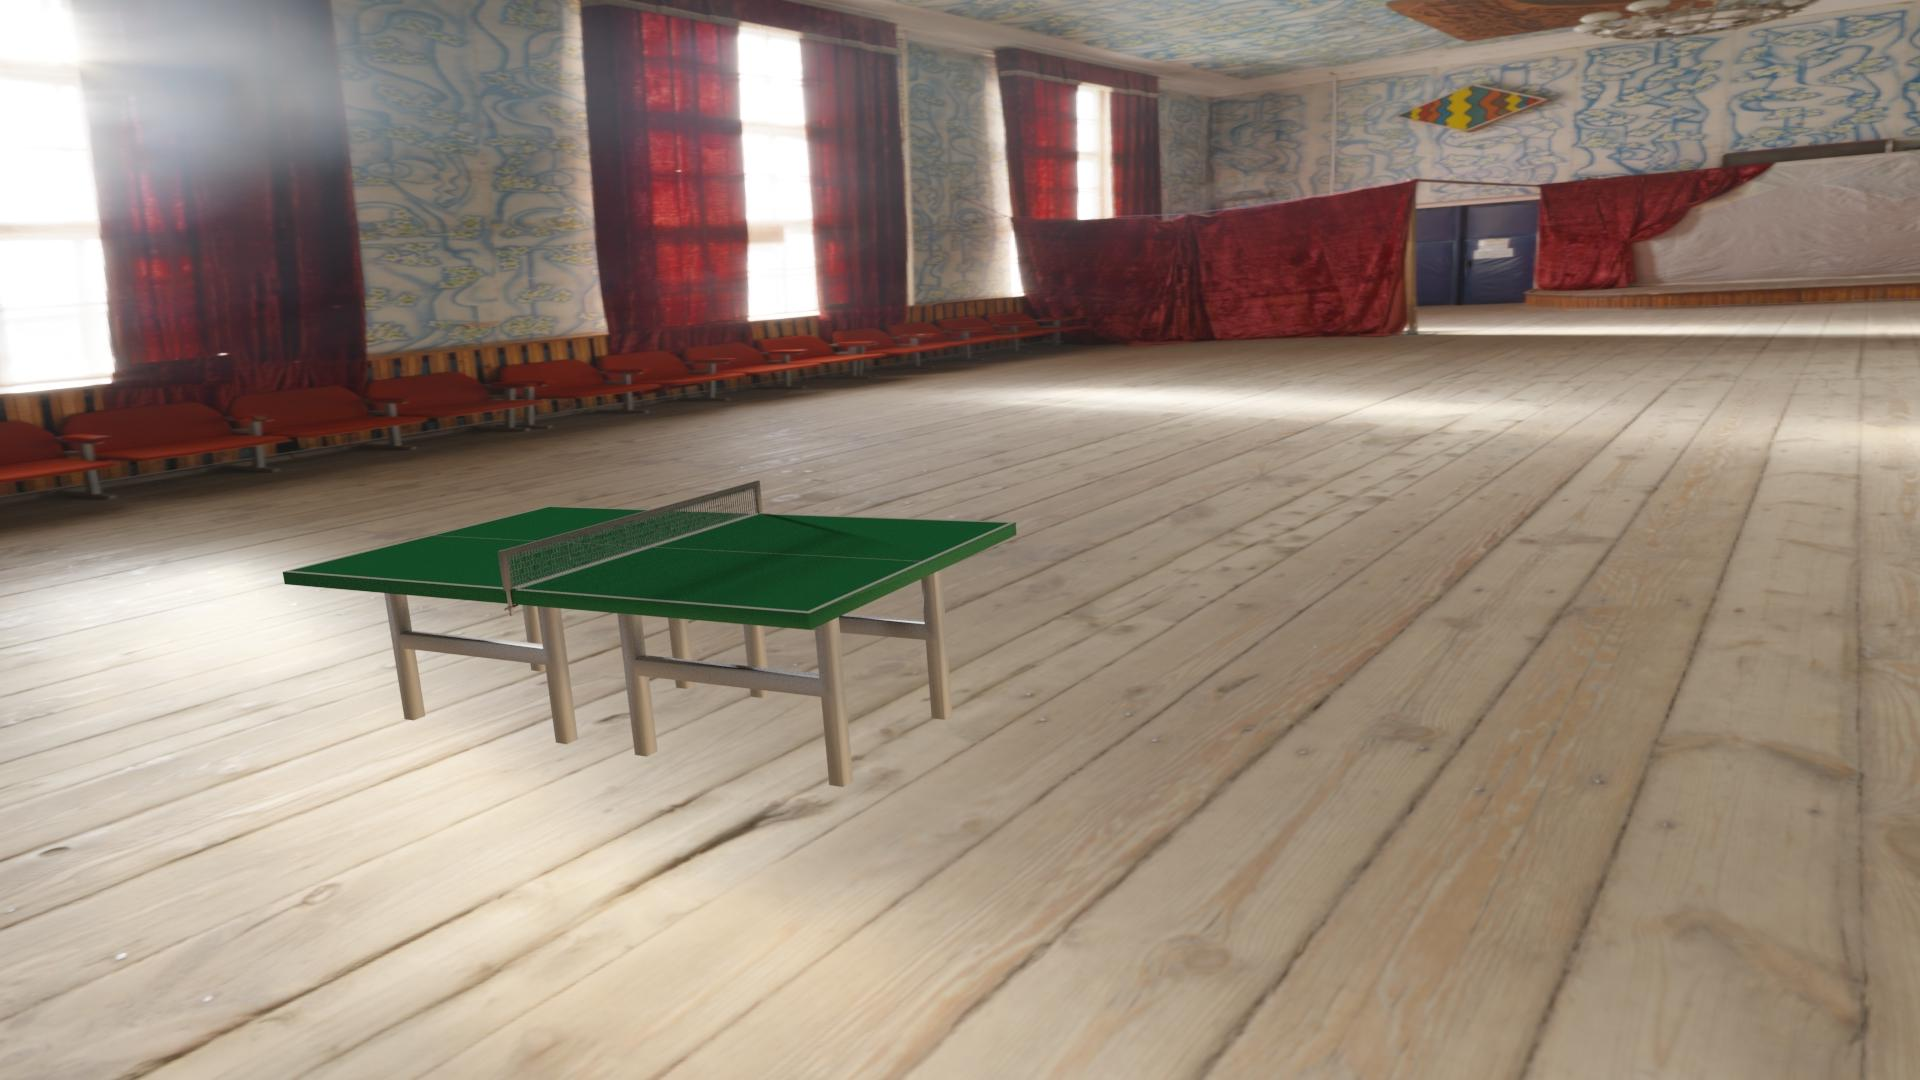table: (290, 506, 1010, 612)
